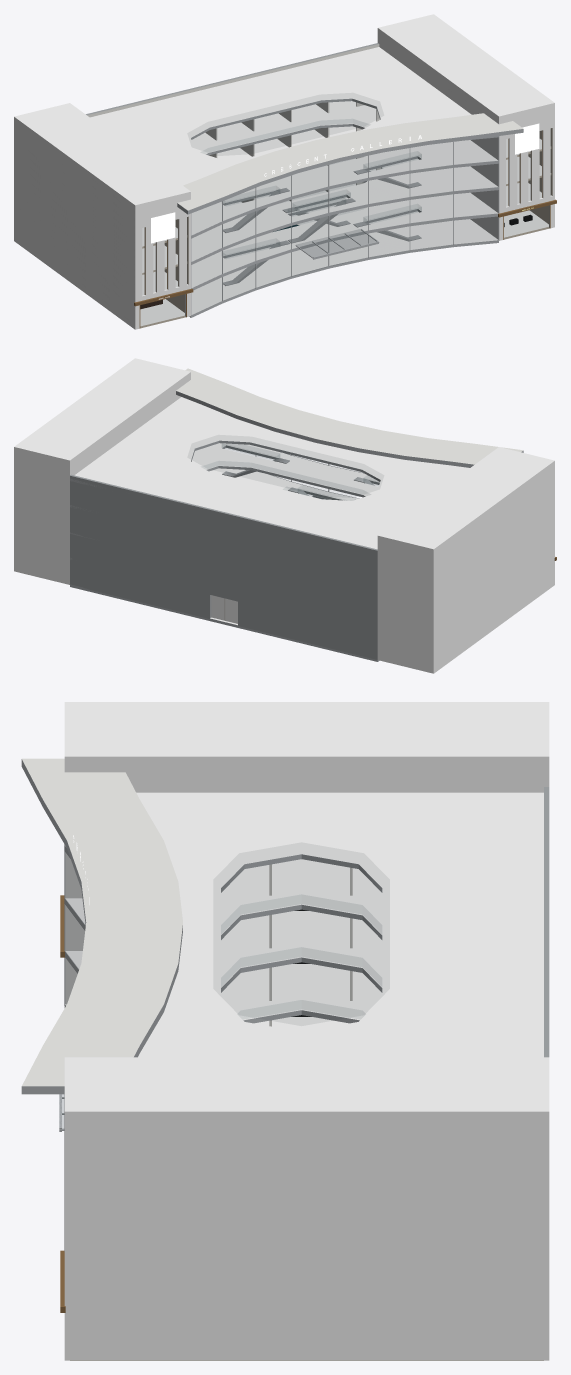
The model's file is crescent_galleria_lod2.glb.
The picture shows the model from 3 angles, top to bottom: view 1: azimuth 30°, elevation 25°; view 2: azimuth 150°, elevation 25°; view 3: azimuth 270°, elevation 25°; orthographic projection. The views are drawn at different scales.
Parts seen in each view (by area): view 1: P15_LOD2_BUILDING_EXTERIOR_Bookends, P15_LOD2_BUILDING_INTERIOR_Slabs, P15_LOD2_GLASS_SYSTEM_CrescentGlass, P15_LOD2_BUILDING_EXTERIOR_Roof, P15_LOD2_FACADE_DETAILS_Crescent, P15_LOD2_GLASS_SYSTEM_CrescentFrame, P15_LOD2_BUILDING_INTERIOR_BookendFloors, P15_LOD2_SIGNAGE_Brand, P15_LOD2_GLASS_SYSTEM_BookShop1Glass, P15_LOD2_GLASS_SYSTEM_BookShop-1Glass, P15_LOD2_BUILDING_INTERIOR_ShopShells, P15_LOD2_BUILDING_INTERIOR_EscCA; view 2: P15_LOD2_BUILDING_EXTERIOR_Bookends, P15_LOD2_BUILDING_EXTERIOR_Roof, P15_LOD2_FACADE_DETAILS_Crescent, P15_LOD2_BUILDING_INTERIOR_Slabs, P15_LOD2_BUILDING_INTERIOR_ShopShells; view 3: P15_LOD2_BUILDING_EXTERIOR_Bookends, P15_LOD2_BUILDING_EXTERIOR_Roof, P15_LOD2_FACADE_DETAILS_Crescent, P15_LOD2_BUILDING_INTERIOR_Slabs, P15_LOD2_GLASS_SYSTEM_CrescentGlass.
Boxes of the visible parts, <box> form: P15_LOD2_BUILDING_EXTERIOR_Bookends: <box>14,14,556,329</box>; P15_LOD2_BUILDING_INTERIOR_Slabs: <box>189,101,498,317</box>; P15_LOD2_GLASS_SYSTEM_CrescentGlass: <box>192,138,497,313</box>; P15_LOD2_BUILDING_EXTERIOR_Roof: <box>90,47,471,185</box>; P15_LOD2_FACADE_DETAILS_Crescent: <box>177,113,523,259</box>; P15_LOD2_GLASS_SYSTEM_CrescentFrame: <box>191,136,499,315</box>; P15_LOD2_BUILDING_INTERIOR_BookendFloors: <box>140,139,551,328</box>; P15_LOD2_SIGNAGE_Brand: <box>151,123,539,299</box>; P15_LOD2_GLASS_SYSTEM_BookShop1Glass: <box>504,206,549,238</box>; P15_LOD2_GLASS_SYSTEM_BookShop-1Glass: <box>141,295,185,327</box>; P15_LOD2_BUILDING_INTERIOR_ShopShells: <box>205,102,381,202</box>; P15_LOD2_BUILDING_INTERIOR_EscCA: <box>287,198,355,243</box>; P15_LOD2_BUILDING_EXTERIOR_Bookends: <box>14,358,556,673</box>; P15_LOD2_BUILDING_EXTERIOR_Roof: <box>70,397,469,549</box>; P15_LOD2_FACADE_DETAILS_Crescent: <box>176,368,523,499</box>; P15_LOD2_BUILDING_INTERIOR_Slabs: <box>70,443,379,661</box>; P15_LOD2_BUILDING_INTERIOR_ShopShells: <box>191,461,237,623</box>; P15_LOD2_BUILDING_EXTERIOR_Bookends: <box>60,702,549,1360</box>; P15_LOD2_BUILDING_EXTERIOR_Roof: <box>136,792,543,1057</box>; P15_LOD2_FACADE_DETAILS_Crescent: <box>21,758,182,1131</box>; P15_LOD2_BUILDING_INTERIOR_Slabs: <box>64,859,382,1031</box>; P15_LOD2_GLASS_SYSTEM_CrescentGlass: <box>65,853,84,1004</box>.
Size of the model in its own units: 90.4 by 25.9 by 49.
